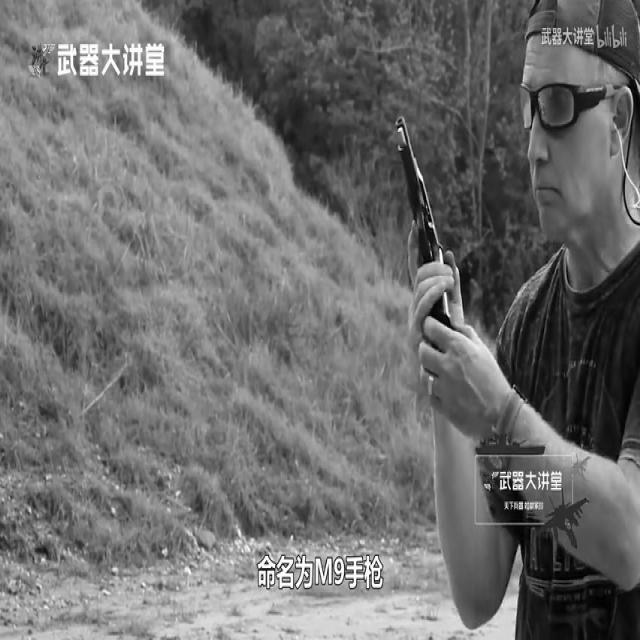Hand-Gun: (372, 58, 528, 448)
